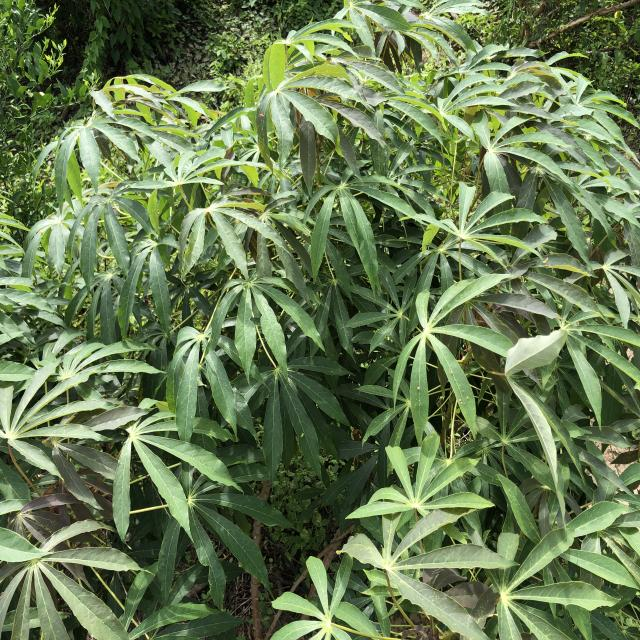Mosca: (94, 358, 113, 373), (293, 425, 306, 442), (456, 391, 471, 405), (541, 253, 554, 269), (415, 381, 423, 394)
